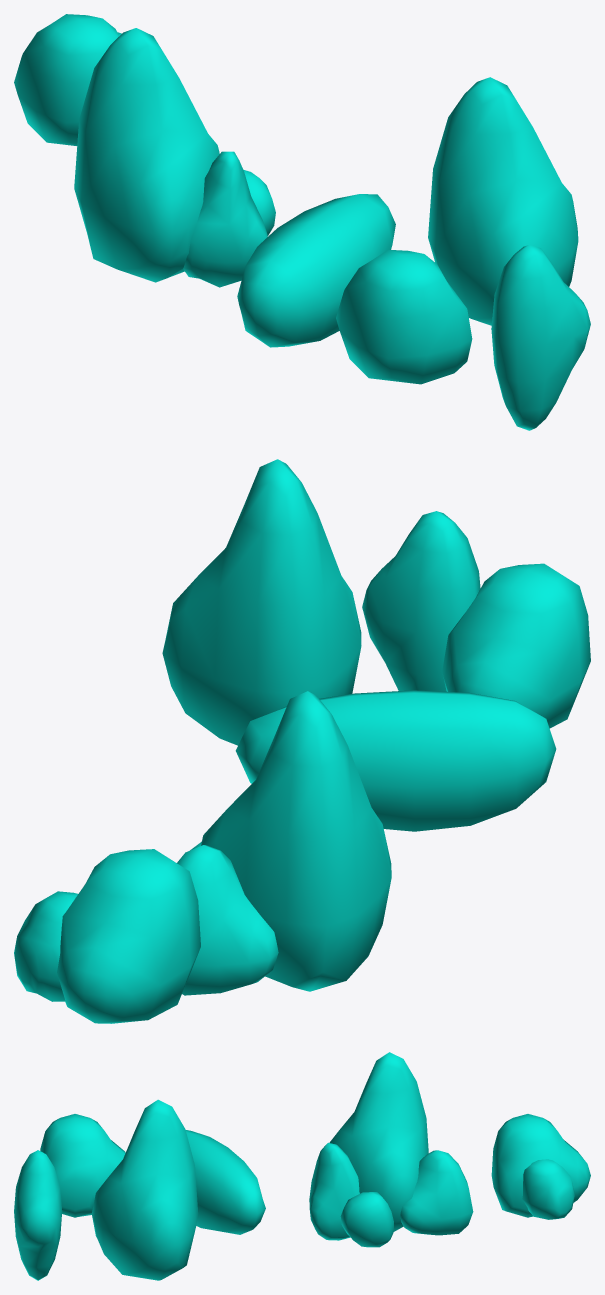
Rendered from Glow_Rocks_Untextured.fbx.
The picture shows the model from 3 angles, top to bottom: view 1: azimuth 30°, elevation 25°; view 2: azimuth 150°, elevation 25°; view 3: azimuth 270°, elevation 25°; orthographic projection. The views are drawn at different scales.
Parts seen in each view (by area): view 1: Glow_rock_cluster1, Glow_rock1, Glow_rock2, Glow_rock3, Glow_rock4, Glow_rock_cluster2; view 2: Glow_rock_cluster1, Glow_rock1, Glow_rock2, Glow_rock_cluster2, Glow_rock3, Glow_rock4; view 3: Glow_rock_cluster1, Glow_rock1, Glow_rock_cluster2, Glow_rock2, Glow_rock3, Glow_rock4.
Part boxes in pixels (box(x1,y1,x2,y2)): Glow_rock_cluster1: box(74, 28, 275, 287); Glow_rock1: box(428, 77, 578, 325); Glow_rock2: box(237, 194, 395, 347); Glow_rock3: box(336, 249, 472, 384); Glow_rock4: box(491, 245, 590, 430); Glow_rock_cluster2: box(14, 14, 121, 145); Glow_rock_cluster1: box(177, 691, 391, 995); Glow_rock1: box(162, 459, 361, 745); Glow_rock2: box(235, 690, 556, 831); Glow_rock_cluster2: box(14, 849, 200, 1023); Glow_rock3: box(442, 563, 590, 728); Glow_rock4: box(362, 511, 480, 691); Glow_rock_cluster1: box(309, 1052, 473, 1247); Glow_rock1: box(92, 1099, 198, 1280); Glow_rock_cluster2: box(491, 1114, 590, 1219); Glow_rock2: box(185, 1130, 265, 1234); Glow_rock3: box(40, 1114, 125, 1217); Glow_rock4: box(14, 1150, 62, 1280).
Size of the model in its own units: 169 by 139 by 370.
